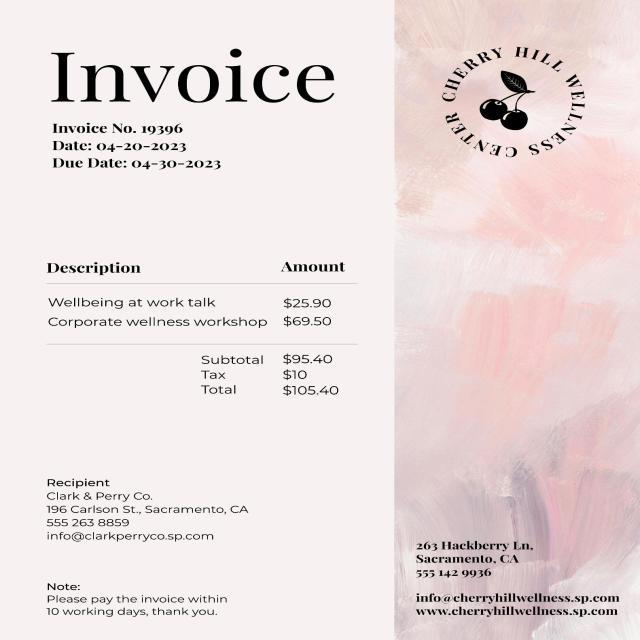ROI: (30, 237, 362, 343), (427, 20, 605, 188), (31, 28, 352, 108), (403, 526, 631, 626), (35, 468, 266, 562), (29, 116, 288, 186), (38, 573, 256, 630), (186, 348, 357, 412)
